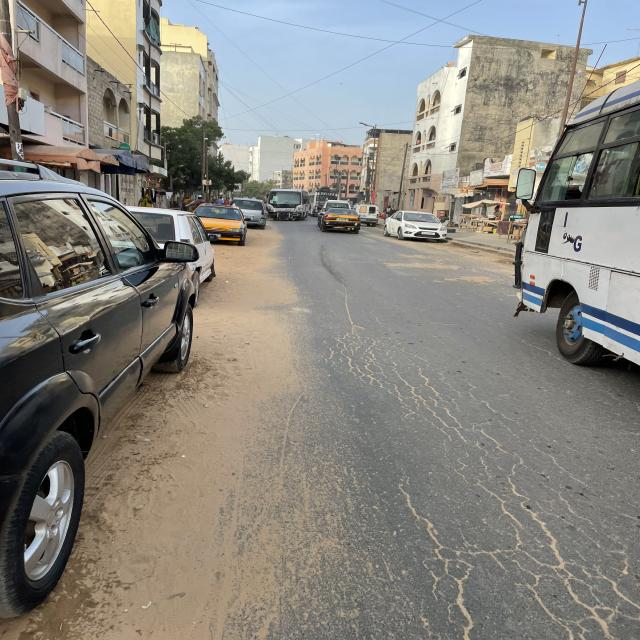bus: (306, 188, 344, 220)
bus tata: (511, 78, 640, 371), (267, 187, 314, 222)
particulier: (1, 160, 201, 619), (121, 204, 222, 288), (384, 209, 453, 244), (229, 197, 269, 229), (321, 201, 354, 228), (354, 202, 383, 230)
taxi: (192, 203, 254, 251), (319, 206, 364, 236)
